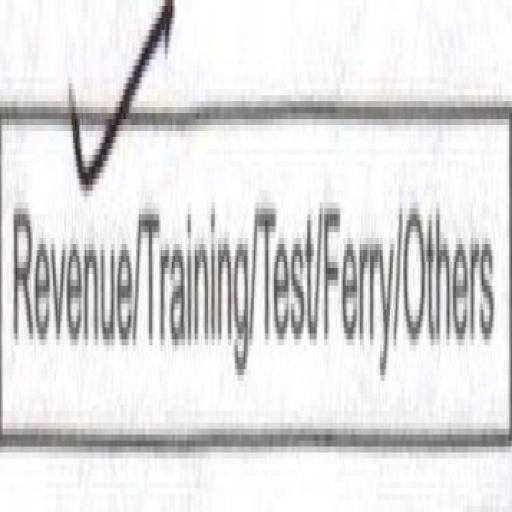check: (5, 22, 136, 455)
